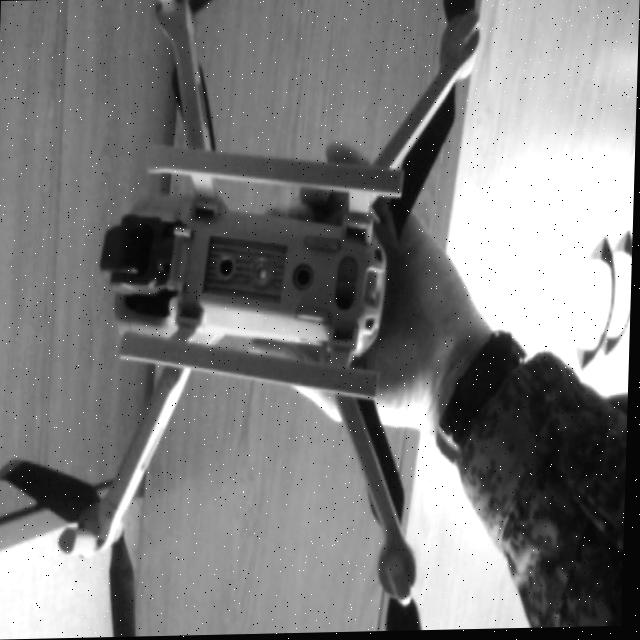drone: (52, 0, 485, 639)
